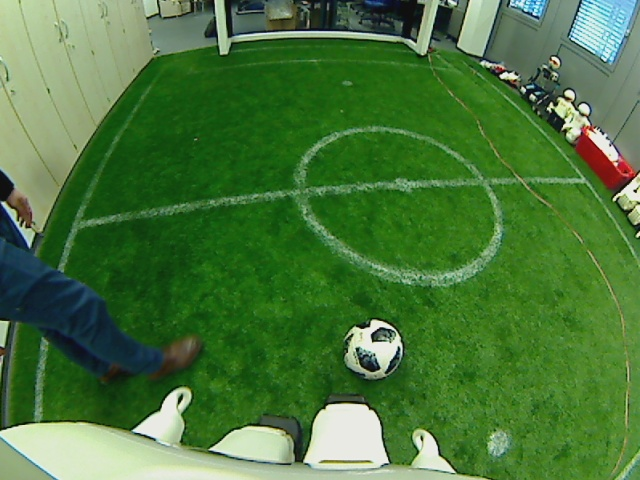ball: (341, 317, 405, 380)
